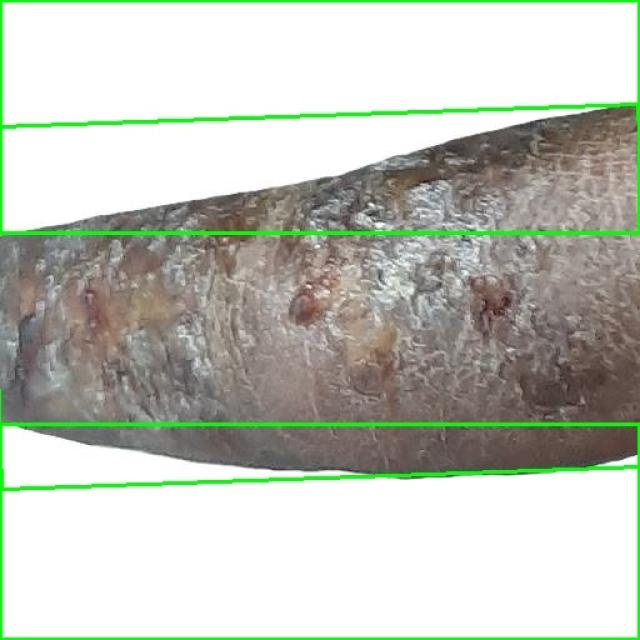Eczema: (0, 105, 640, 490), (0, 0, 639, 232), (0, 424, 639, 639)
